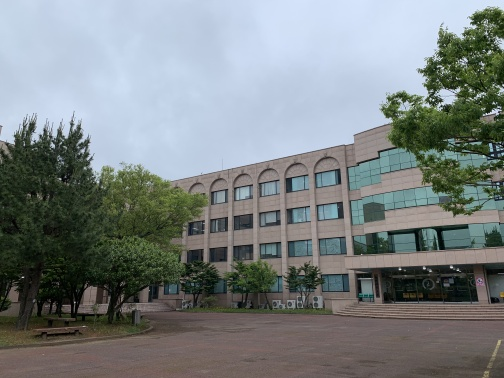Natural Science2: (183, 119, 504, 320)
